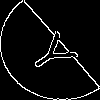Y: (25, 25, 87, 80)
